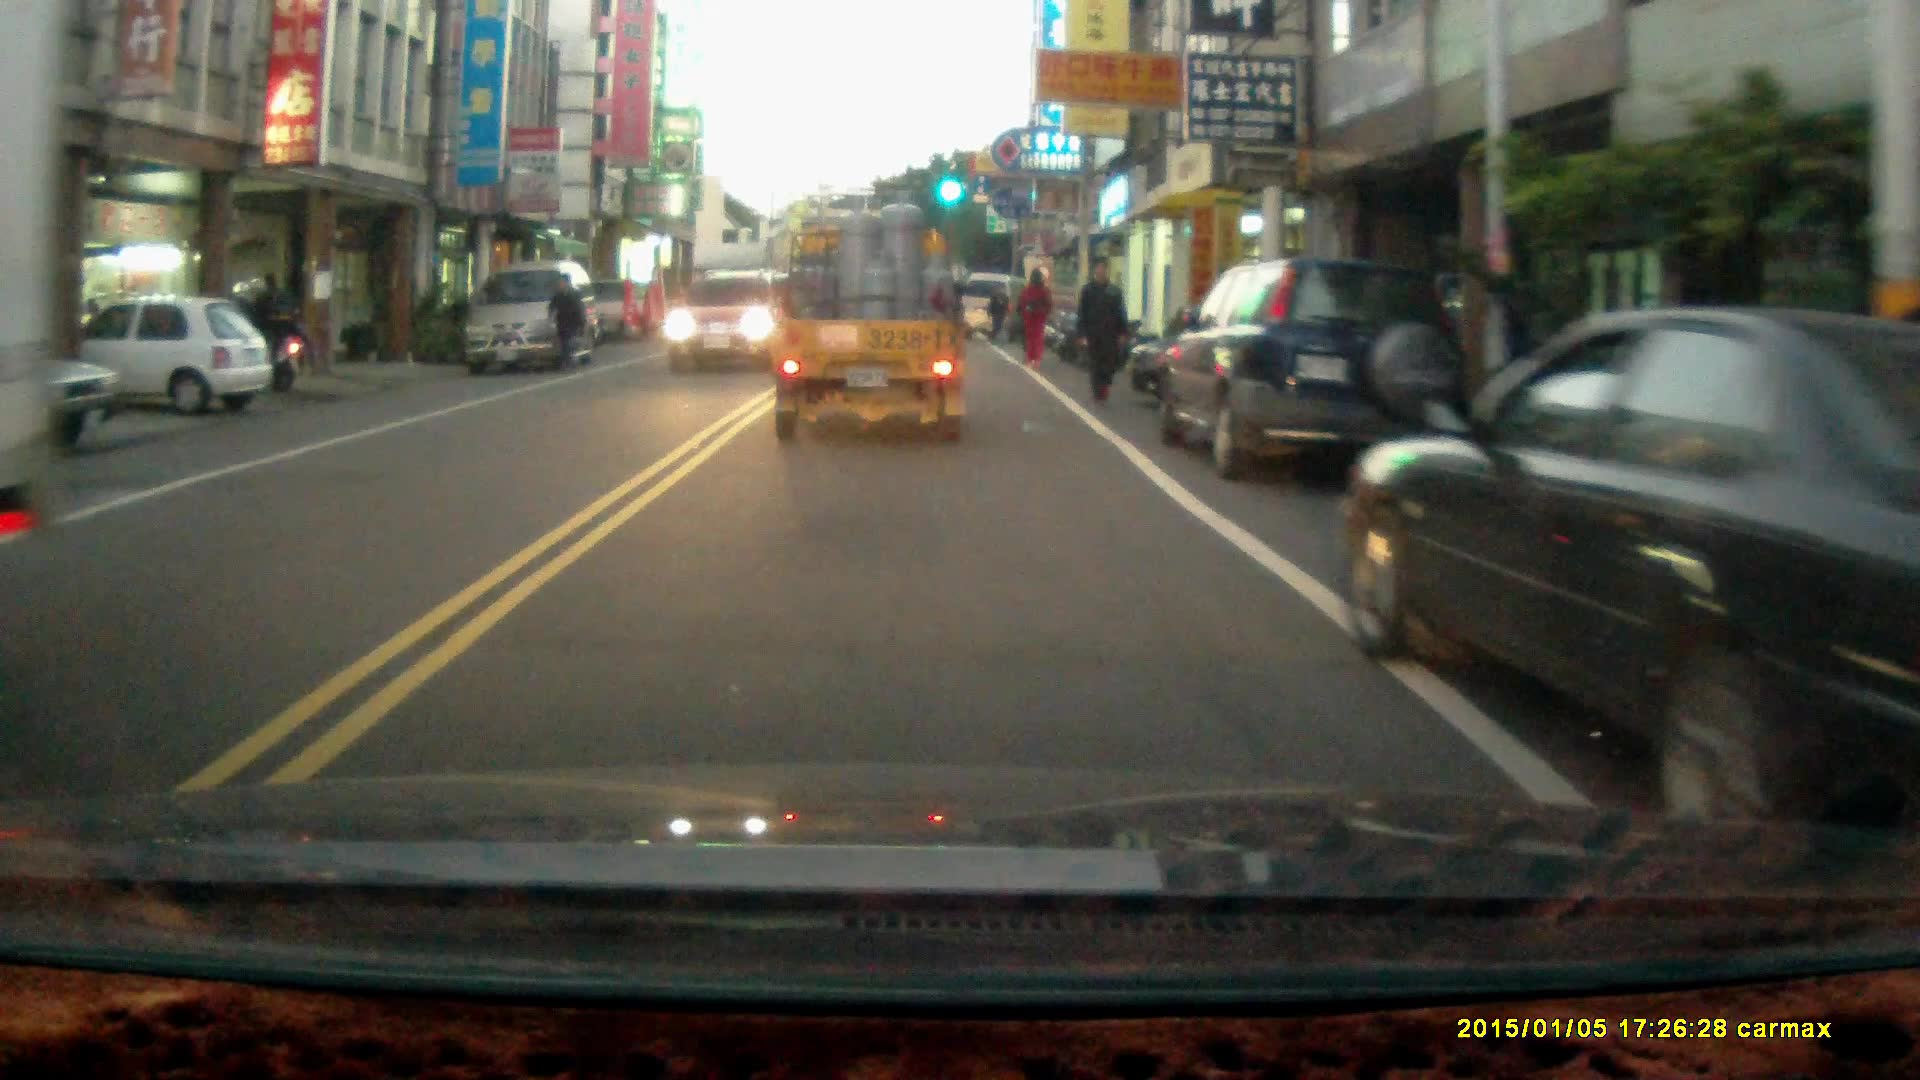pedestrian: (1073, 254, 1132, 411), (263, 267, 309, 392), (544, 272, 588, 374), (1014, 267, 1052, 370), (984, 286, 1010, 345)
rider: (214, 279, 300, 396)
vehicle: (1334, 309, 1920, 803), (1161, 258, 1467, 484), (773, 194, 970, 447), (18, 293, 260, 416), (464, 261, 598, 373), (662, 277, 782, 377)
